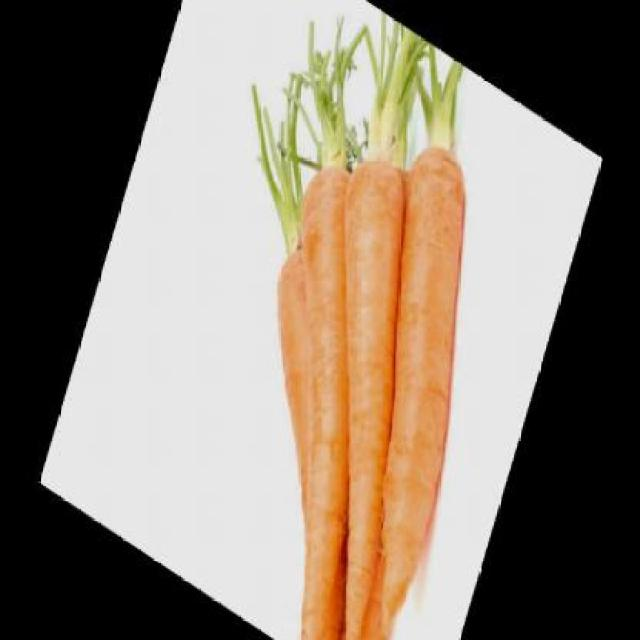carrot: (225, 144, 483, 638), (188, 150, 448, 638), (281, 132, 525, 639), (216, 240, 379, 545), (305, 527, 384, 639)
